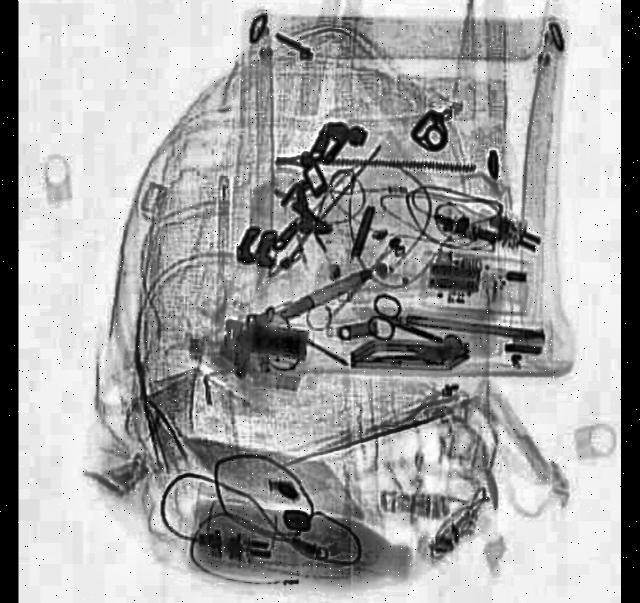Scissors: (364, 287, 449, 364)
